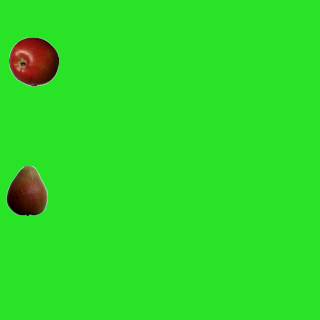Apple Braeburn: (8, 36, 58, 86)
Pear Forelle: (1, 165, 51, 215)
